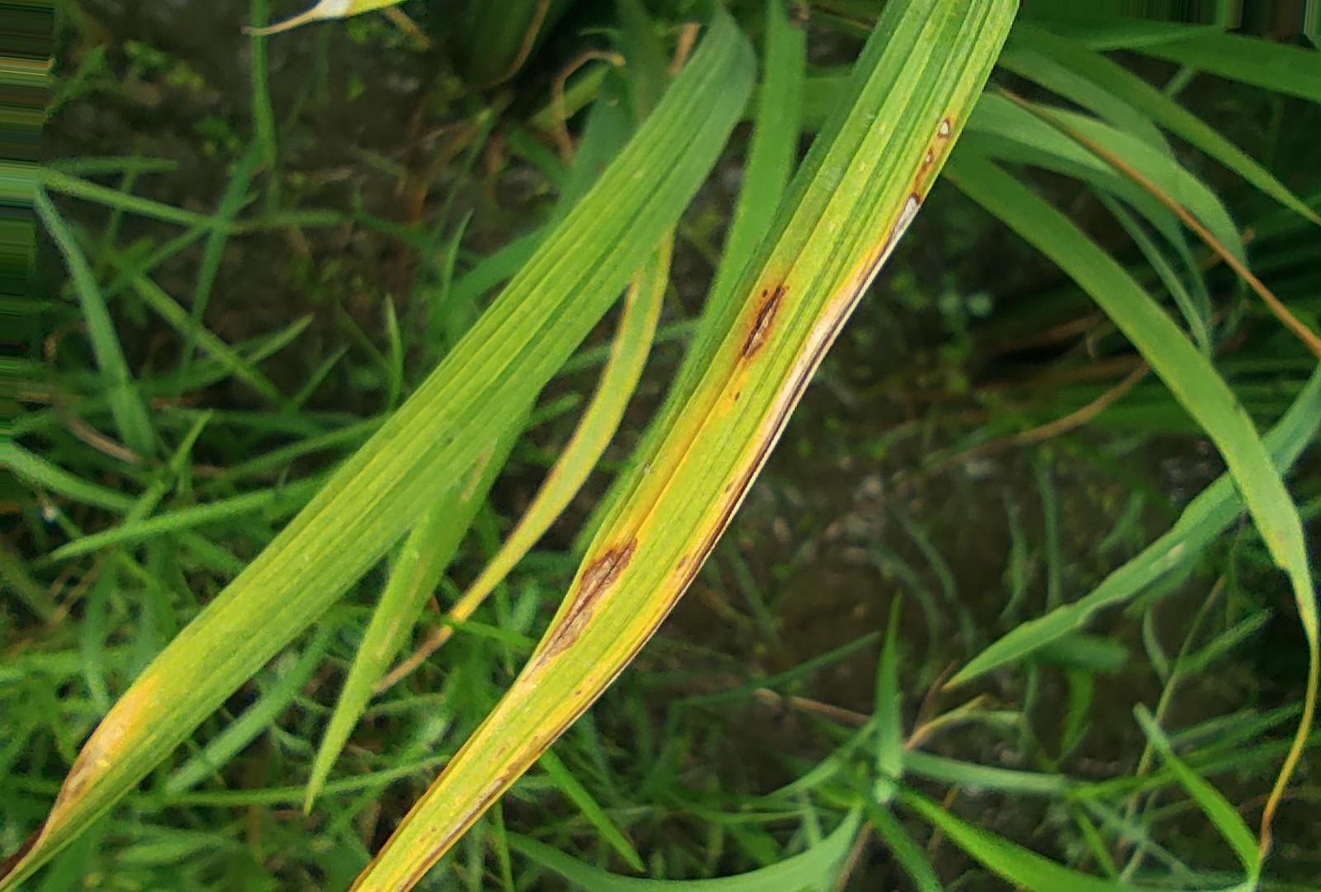LEAF: (350, 0, 1017, 891)
LEAF BLAST: (523, 536, 638, 682), (741, 284, 787, 360), (916, 148, 935, 181), (936, 118, 951, 138)
